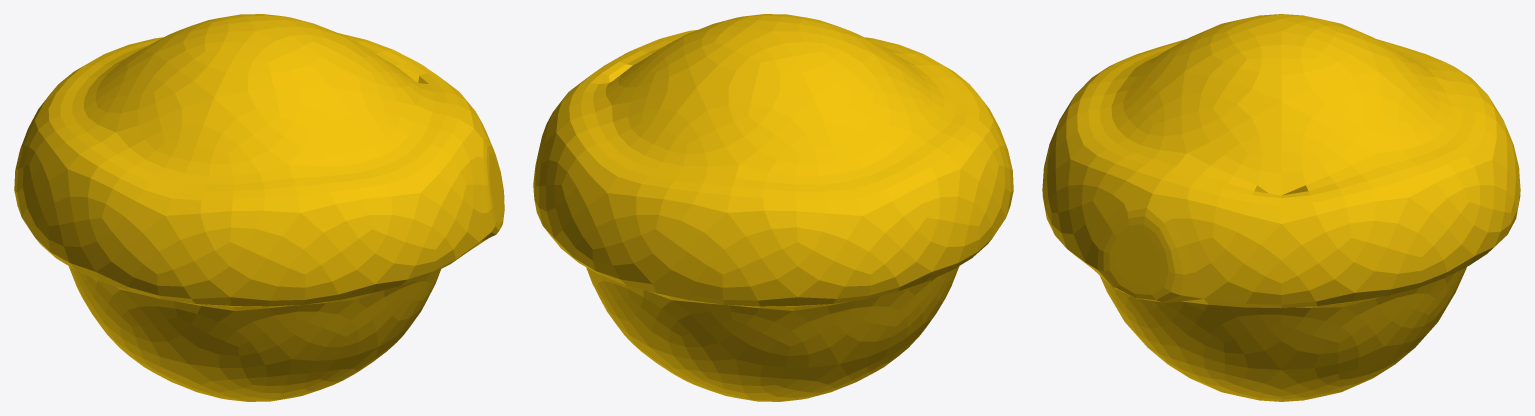
Rendered from Collectible.fbx.
3 views of the same model, side by side, from view 1: azimuth 30°, elevation 25°; view 2: azimuth 150°, elevation 25°; view 3: azimuth 270°, elevation 25° (orthographic).
Parts seen in each view (by area): view 1: Icosphere; view 2: Icosphere; view 3: Icosphere.
Boxes of the visible parts, x1,y1,x2,y2 form: Icosphere: (14,14,504,401); Icosphere: (533,14,1013,401); Icosphere: (1042,14,1520,401).
Bounding box in the file's own units: 229 × 186 × 228.
